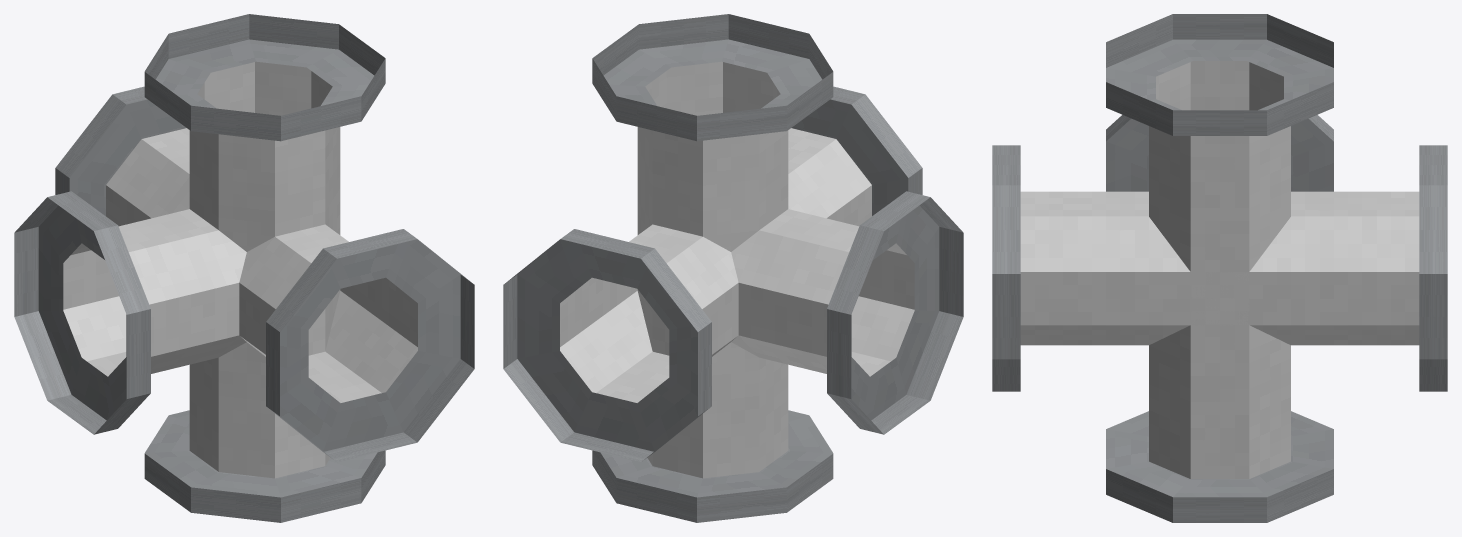
Rendered from connection_31.obj.
3 renders of one model, left to right at view 1: azimuth 30°, elevation 25°; view 2: azimuth 150°, elevation 25°; view 3: azimuth 270°, elevation 25°, orthographic.
Size of the model in its own units: 0.75 by 1 by 1.
